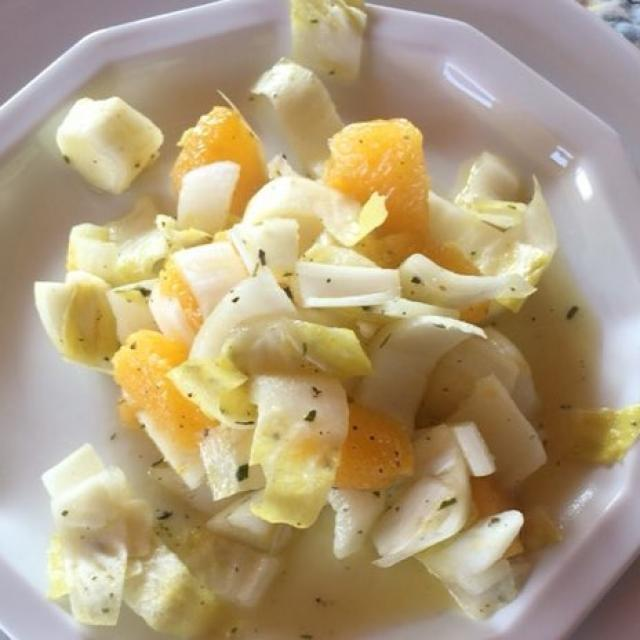orange: (102, 91, 474, 485)
witloof-chicory: (41, 11, 553, 630)
